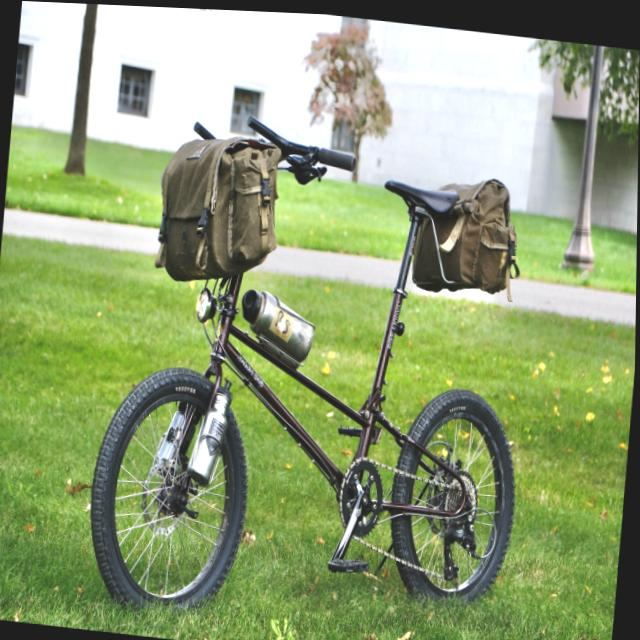folding-bike: (79, 95, 549, 640)
